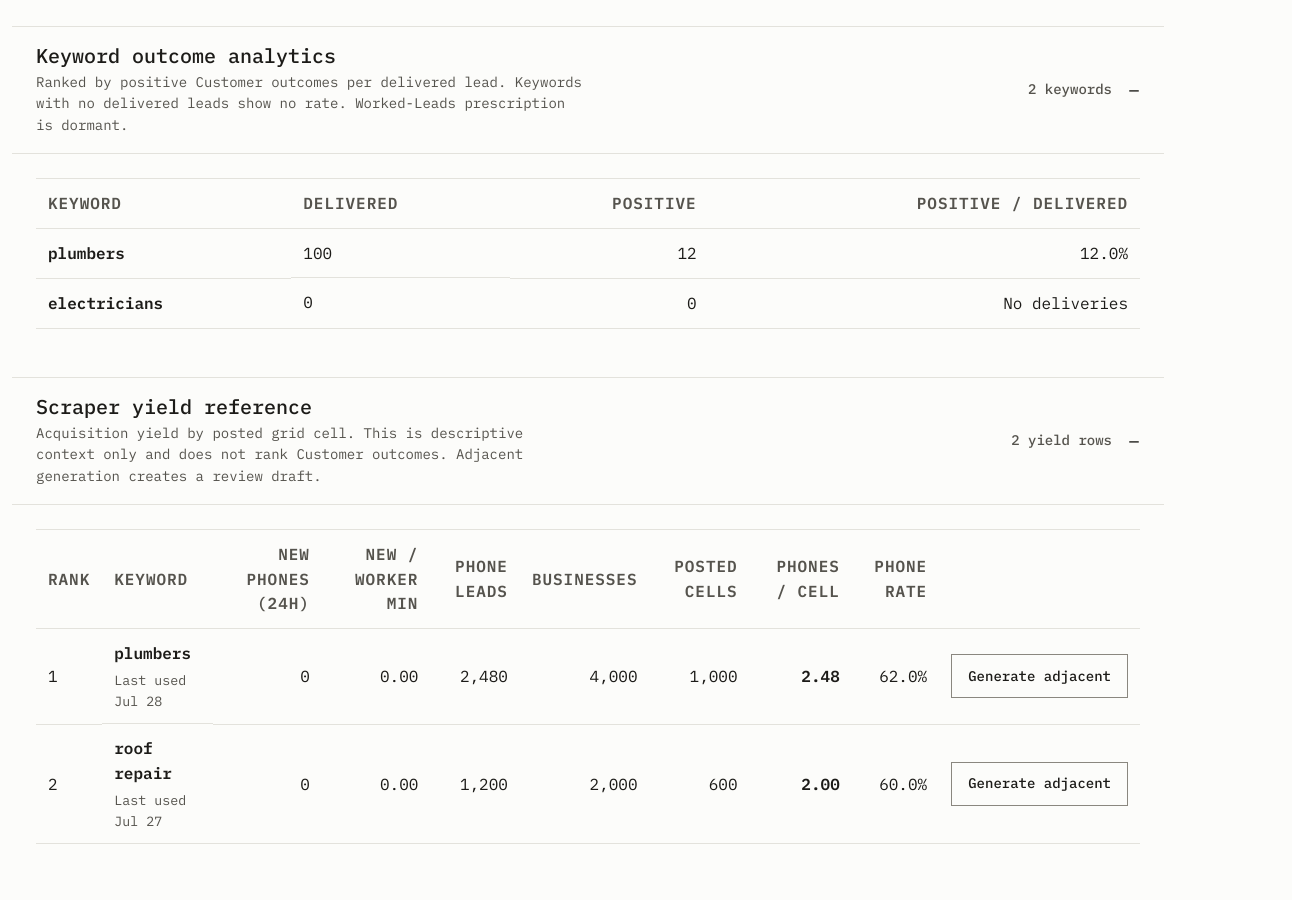
Test: keyword parity › generates adjacent keywords only from the selected winner
(page scrolled)
Click the button "Generate adjacent" in the row of "2,480" at coordinates (1040, 676), box [951,654,1128,698]
(page scrolled)
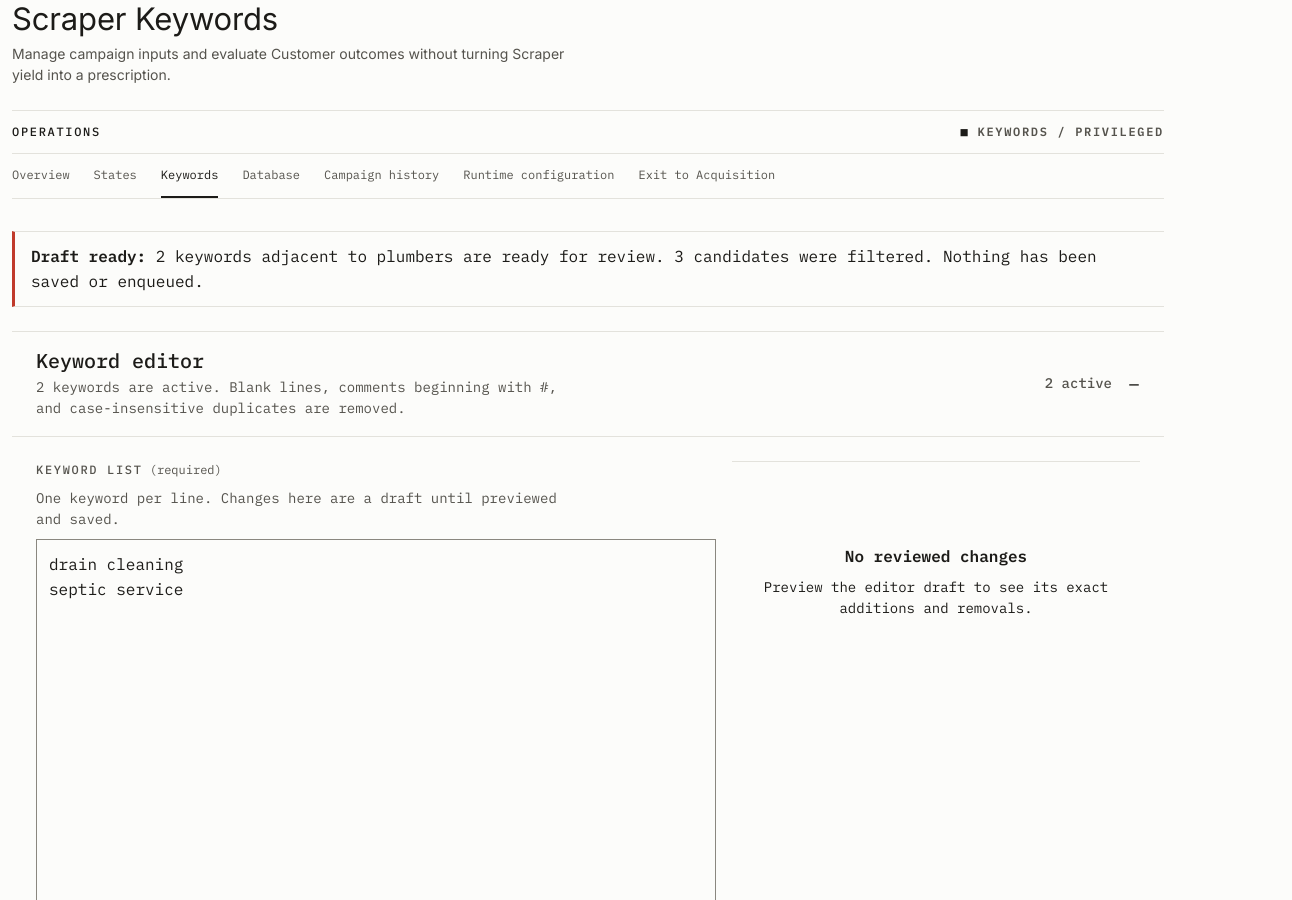
Expected: the text "keywords adjacent to plumbers" is shown, [31,246,1097,291]
